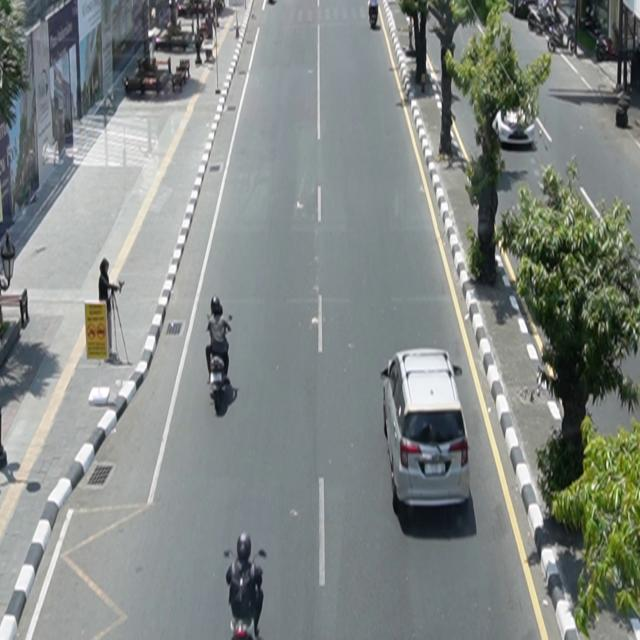car: (381, 349, 472, 516)
